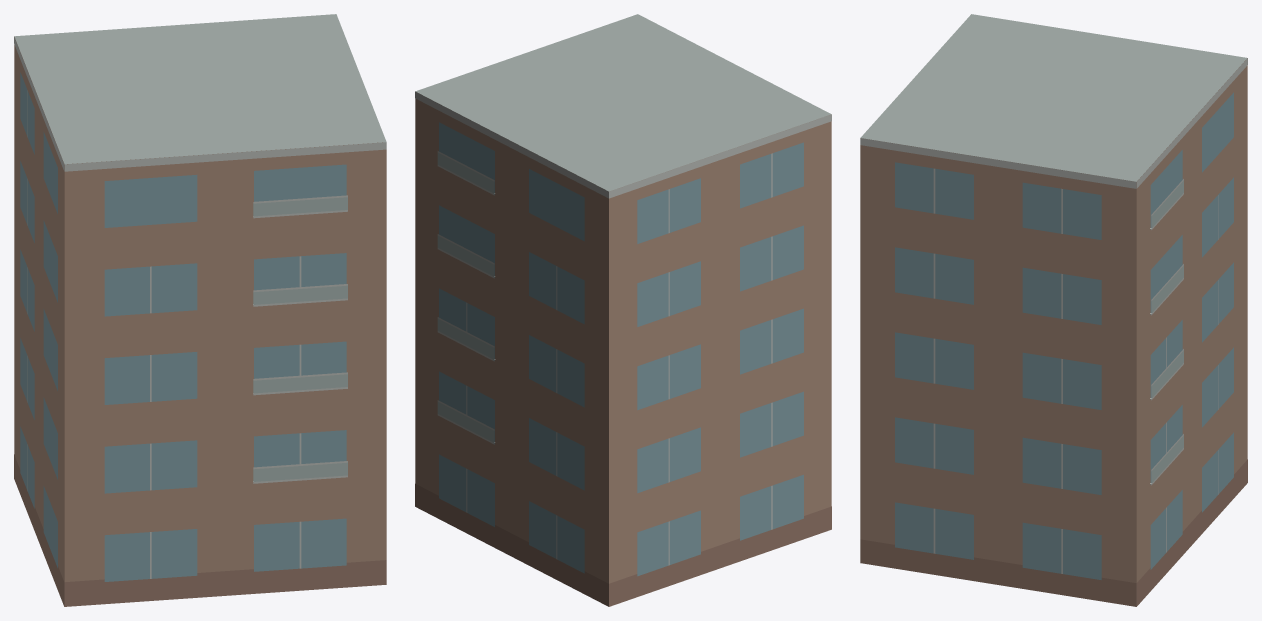
The model's file is survey-upis-33012681.glb.
3 renders of one model, left to right at view 1: azimuth 30°, elevation 25°; view 2: azimuth 150°, elevation 25°; view 3: azimuth 270°, elevation 25°, orthographic. The views are drawn at different scales.
Visible parts, largest first — view 1: survey-upis-33012681.tmp; view 2: survey-upis-33012681.tmp; view 3: survey-upis-33012681.tmp.
Part boxes in pixels (<box>): survey-upis-33012681.tmp: <box>14,14,386,606</box>; survey-upis-33012681.tmp: <box>415,14,831,606</box>; survey-upis-33012681.tmp: <box>860,14,1247,606</box>.
Size of the model in its own units: 12.28 by 14.5 by 11.99.
